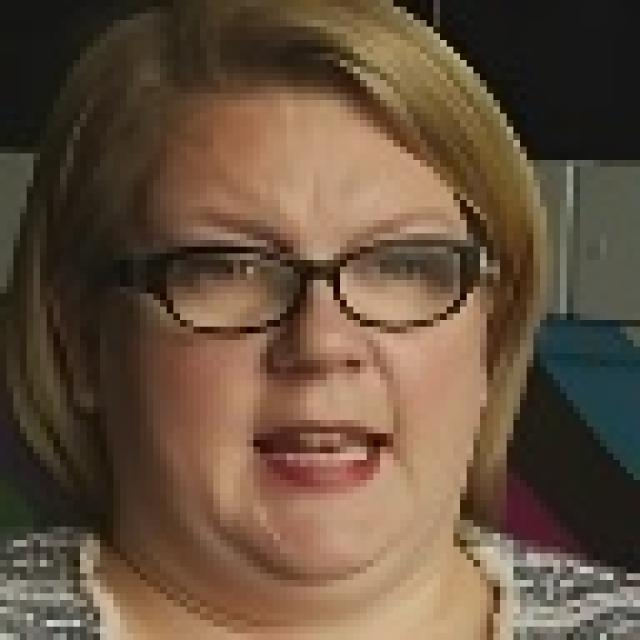angry: (83, 32, 532, 626)
